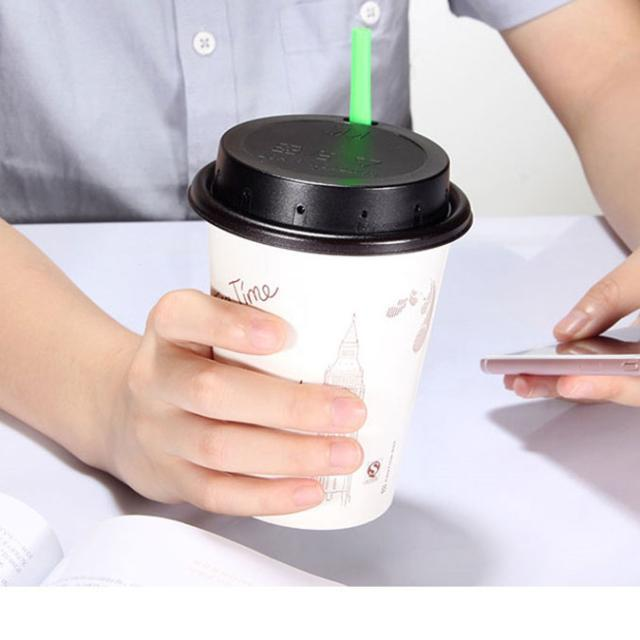hidden camera: (295, 203, 306, 216)
